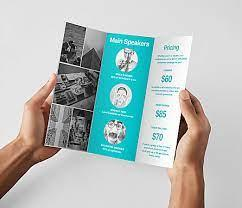paper: (44, 23, 193, 169)
